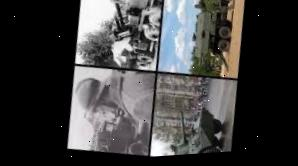sau: (71, 0, 169, 76), (162, 0, 244, 75)
tank: (164, 101, 228, 156)
